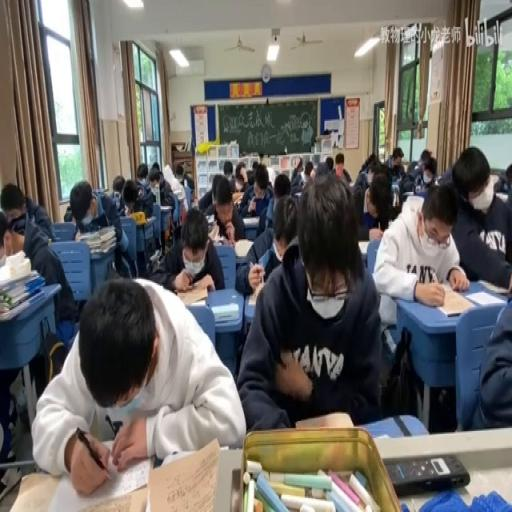calculator: (145, 435, 221, 512), (5, 469, 59, 509), (431, 286, 472, 314), (0, 292, 40, 320), (0, 268, 39, 294), (296, 410, 355, 426), (175, 282, 208, 304), (464, 288, 502, 306), (210, 300, 238, 322), (5, 249, 27, 269), (233, 236, 254, 256), (246, 282, 265, 304), (258, 246, 272, 272), (207, 223, 219, 242), (230, 189, 244, 205), (172, 184, 186, 199), (358, 238, 370, 253), (148, 248, 160, 263), (242, 214, 258, 224), (148, 184, 158, 200), (206, 213, 215, 226), (495, 192, 508, 201), (144, 216, 155, 225), (160, 204, 171, 210), (402, 191, 414, 196)
paper: (33, 273, 243, 494), (237, 175, 383, 432), (372, 179, 466, 334), (447, 148, 512, 291), (465, 286, 512, 431), (65, 176, 128, 283), (150, 202, 223, 292), (0, 181, 52, 246), (358, 171, 397, 240), (142, 161, 177, 219), (197, 163, 231, 212), (408, 148, 437, 192), (256, 186, 280, 235), (384, 145, 406, 181), (332, 152, 352, 185), (229, 158, 248, 192), (122, 180, 140, 214), (272, 170, 290, 200), (494, 164, 510, 194), (90, 186, 106, 216), (436, 162, 454, 184), (359, 152, 376, 174), (290, 156, 304, 180), (112, 175, 125, 200), (173, 162, 185, 186), (136, 164, 149, 186), (182, 172, 194, 194), (266, 164, 276, 186), (304, 159, 314, 178), (178, 196, 187, 215), (392, 184, 399, 206), (260, 151, 270, 166), (407, 162, 418, 175), (324, 155, 334, 169), (246, 170, 254, 186), (251, 161, 259, 175), (157, 171, 163, 182)
person: (383, 452, 469, 495)
